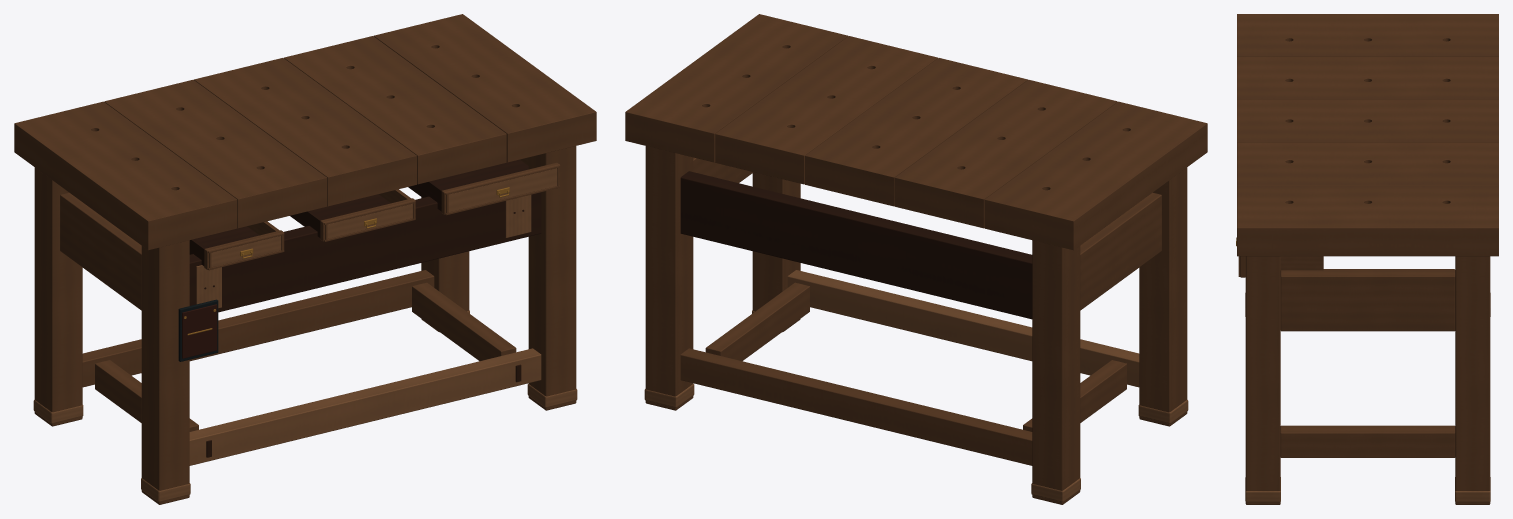
The model's file is asset.glb.
The picture shows the model from 3 angles, left to right: view 1: azimuth 30°, elevation 25°; view 2: azimuth 150°, elevation 25°; view 3: azimuth 270°, elevation 25°; orthographic projection. The views are drawn at different scales.
Visible parts, largest first — view 1: MaterialBatch_Room_furniture_quarter-sawn_oak, MaterialBatch_Room_furniture_light_oak, MaterialBatch_Room_furniture_smoked_walnut, Workbench vise leather jaw; view 2: MaterialBatch_Room_furniture_quarter-sawn_oak, MaterialBatch_Room_furniture_smoked_walnut, MaterialBatch_Room_furniture_light_oak; view 3: MaterialBatch_Room_furniture_quarter-sawn_oak, MaterialBatch_Room_furniture_light_oak.
Part boxes in pixels (x1,y1,x2,y2): MaterialBatch_Room_furniture_quarter-sawn_oak: [14, 14, 596, 504]; MaterialBatch_Room_furniture_light_oak: [33, 168, 577, 502]; MaterialBatch_Room_furniture_smoked_walnut: [189, 159, 541, 457]; Workbench vise leather jaw: [182, 304, 217, 358]; MaterialBatch_Room_furniture_quarter-sawn_oak: [625, 14, 1207, 504]; MaterialBatch_Room_furniture_smoked_walnut: [680, 171, 1032, 319]; MaterialBatch_Room_furniture_light_oak: [644, 270, 1188, 502]; MaterialBatch_Room_furniture_quarter-sawn_oak: [1237, 14, 1498, 504]; MaterialBatch_Room_furniture_light_oak: [1245, 293, 1490, 502].
Size of the model in its own units: 58 by 36 by 30.12.
Materials: 7 (7 with a texture image).
